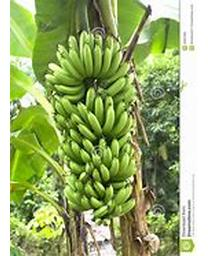banana: (43, 30, 136, 223)
